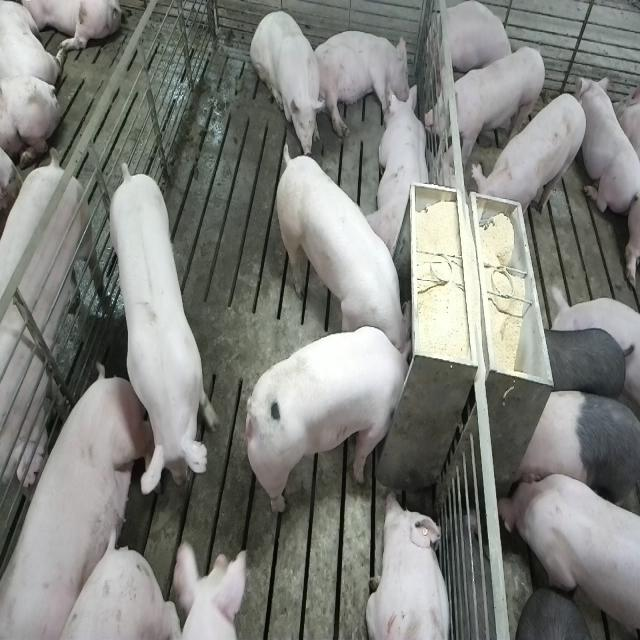Feeding: (249, 324, 419, 518), (274, 141, 410, 358)
Lateral_lying: (0, 365, 142, 640), (311, 30, 411, 138)
Sitting: (250, 7, 324, 156)
Standing: (105, 164, 218, 502), (0, 160, 101, 511), (498, 466, 638, 640), (512, 385, 638, 521), (472, 91, 588, 232), (424, 43, 546, 162), (525, 324, 634, 412), (168, 544, 252, 640)
Sternal_lying: (366, 490, 454, 640), (368, 84, 433, 262), (579, 73, 638, 221), (434, 2, 514, 84)
